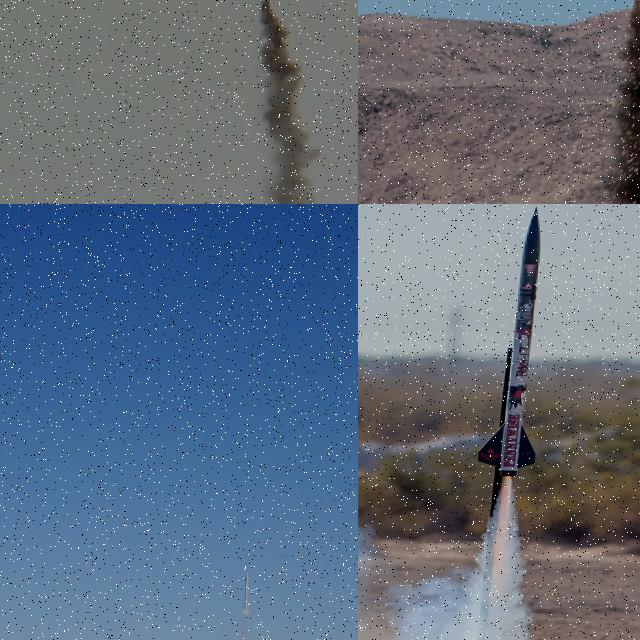Rocket: (478, 205, 543, 477), (241, 571, 252, 617)
